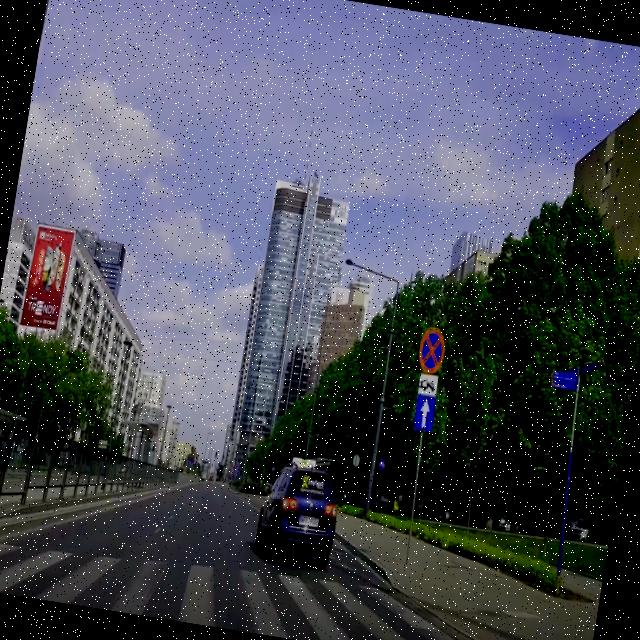Zakaz zatrzymywania sie: (415, 326, 448, 374)
